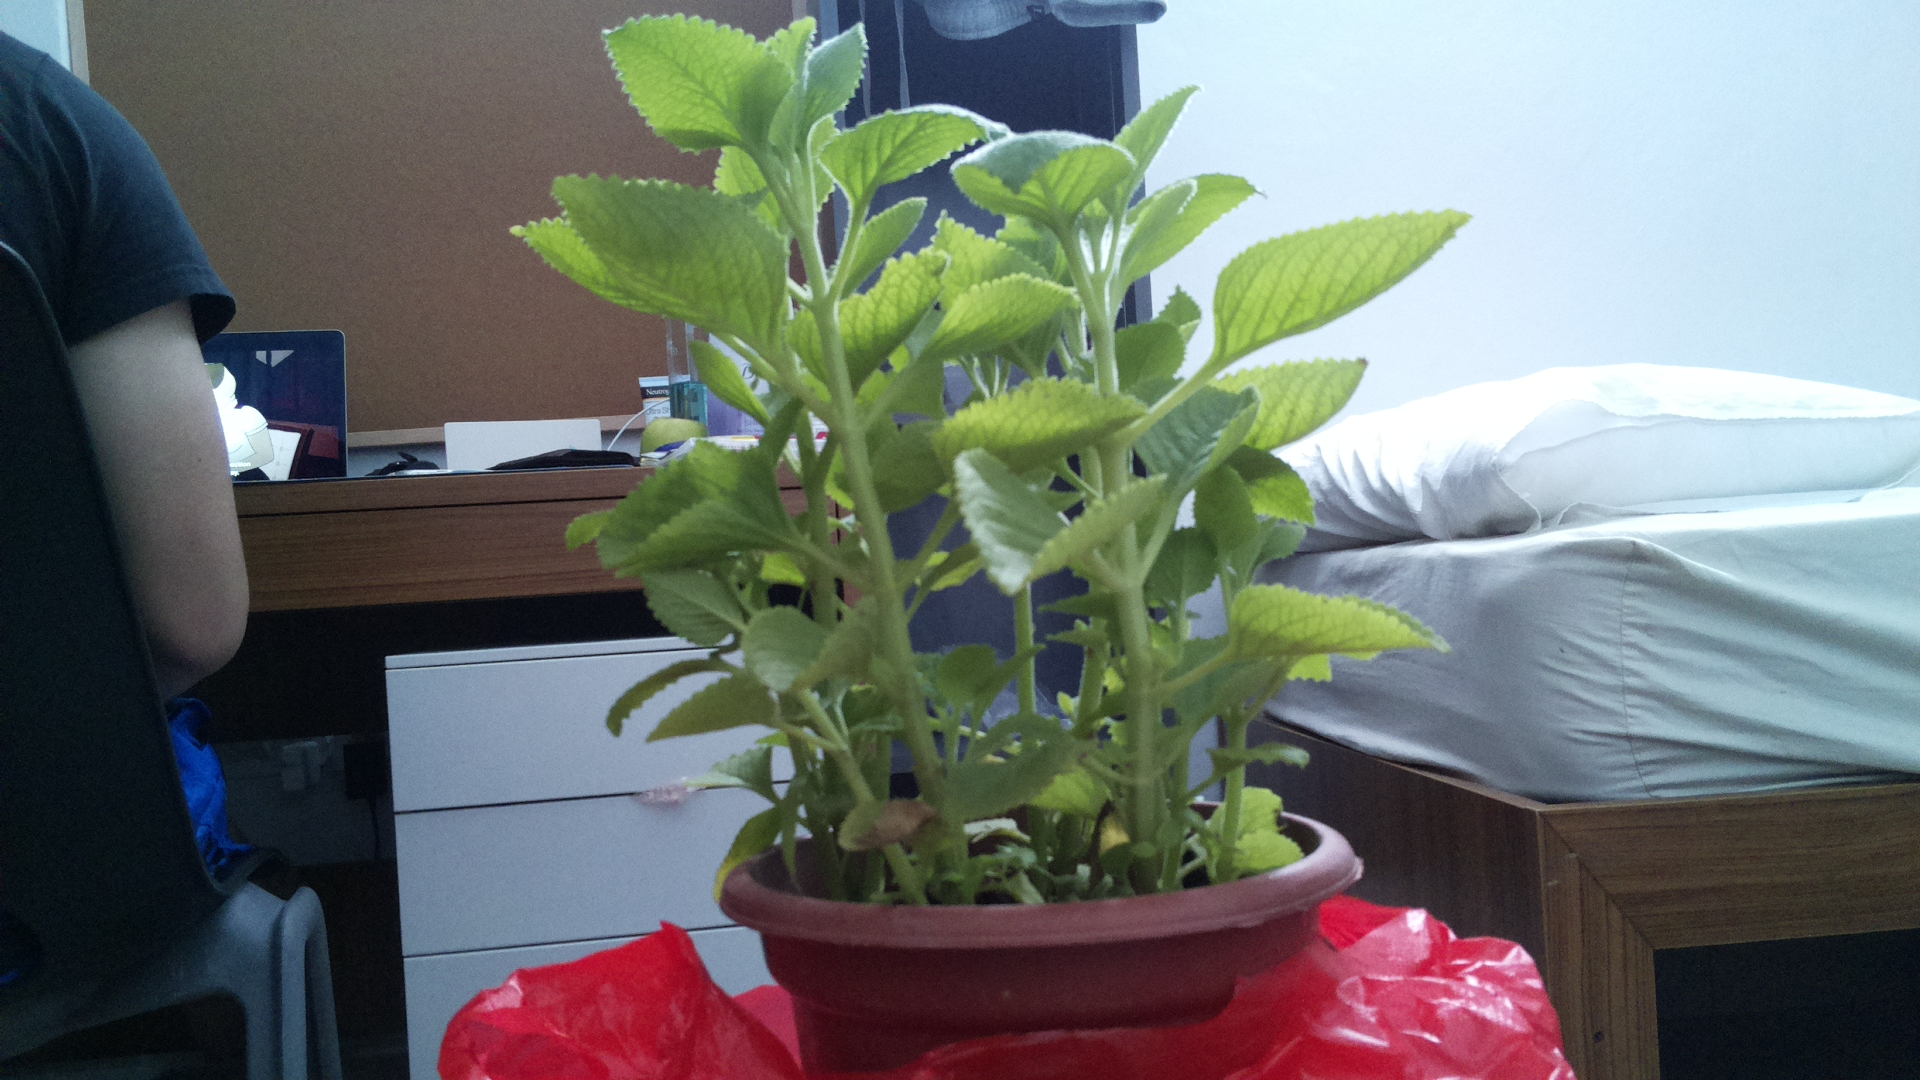leaf: (555, 160, 808, 357), (1209, 190, 1476, 367), (956, 436, 1167, 597), (595, 18, 796, 152), (609, 450, 783, 589), (820, 94, 986, 204), (1236, 578, 1460, 658), (953, 124, 1129, 211), (932, 262, 1076, 363), (727, 604, 887, 684)
